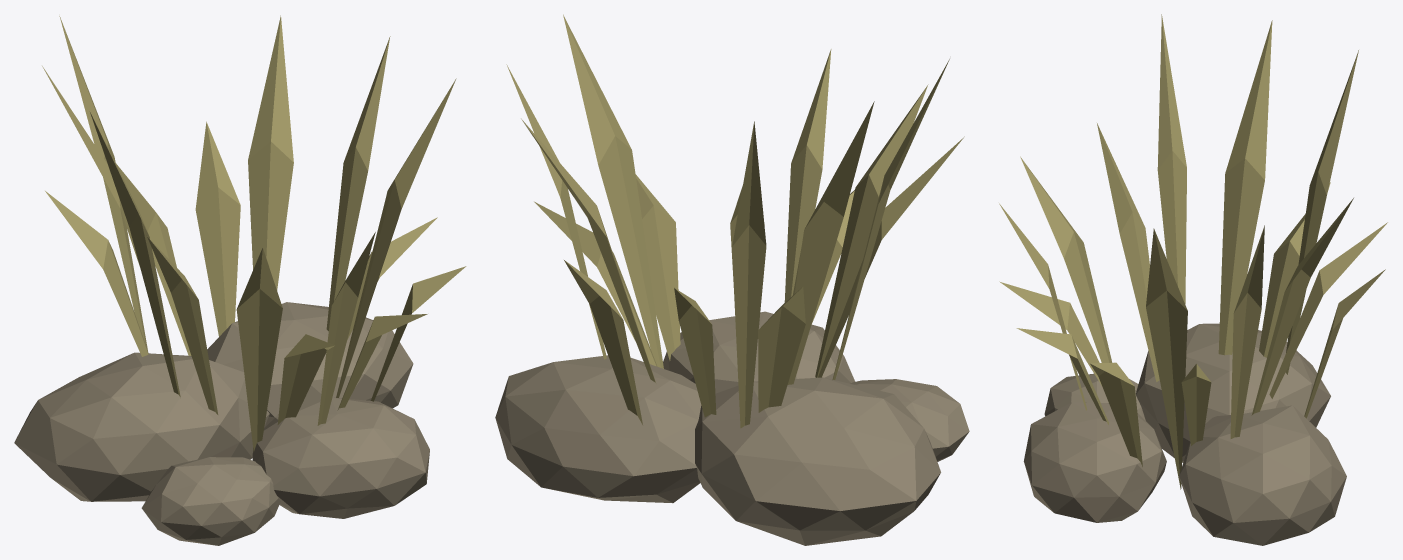
Rendered from shore_pebbles.glb.
3 views of the same model, side by side, from view 1: azimuth 30°, elevation 25°; view 2: azimuth 150°, elevation 25°; view 3: azimuth 270°, elevation 25° (orthographic). The views are drawn at different scales.
Parts seen in each view (by area): view 1: MG2 shore_pebbles MG2 Stone warm, MG2 shore_pebbles MG2 Dry grass; view 2: MG2 shore_pebbles MG2 Stone warm, MG2 shore_pebbles MG2 Dry grass; view 3: MG2 shore_pebbles MG2 Dry grass, MG2 shore_pebbles MG2 Stone warm.
Boxes of the visible parts, x1,y1,x2,y2 form: MG2 shore_pebbles MG2 Stone warm: [14, 302, 429, 545]; MG2 shore_pebbles MG2 Dry grass: [42, 15, 466, 451]; MG2 shore_pebbles MG2 Stone warm: [495, 311, 969, 545]; MG2 shore_pebbles MG2 Dry grass: [506, 14, 964, 428]; MG2 shore_pebbles MG2 Dry grass: [999, 14, 1387, 489]; MG2 shore_pebbles MG2 Stone warm: [1023, 323, 1346, 545].
Size of the model in its own units: 0.5043 by 0.5358 by 0.4708.
